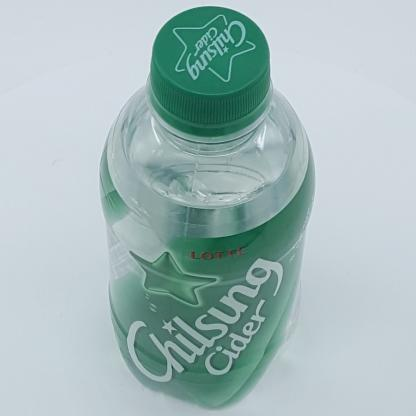-----------390ML: (99, 6, 315, 408)
